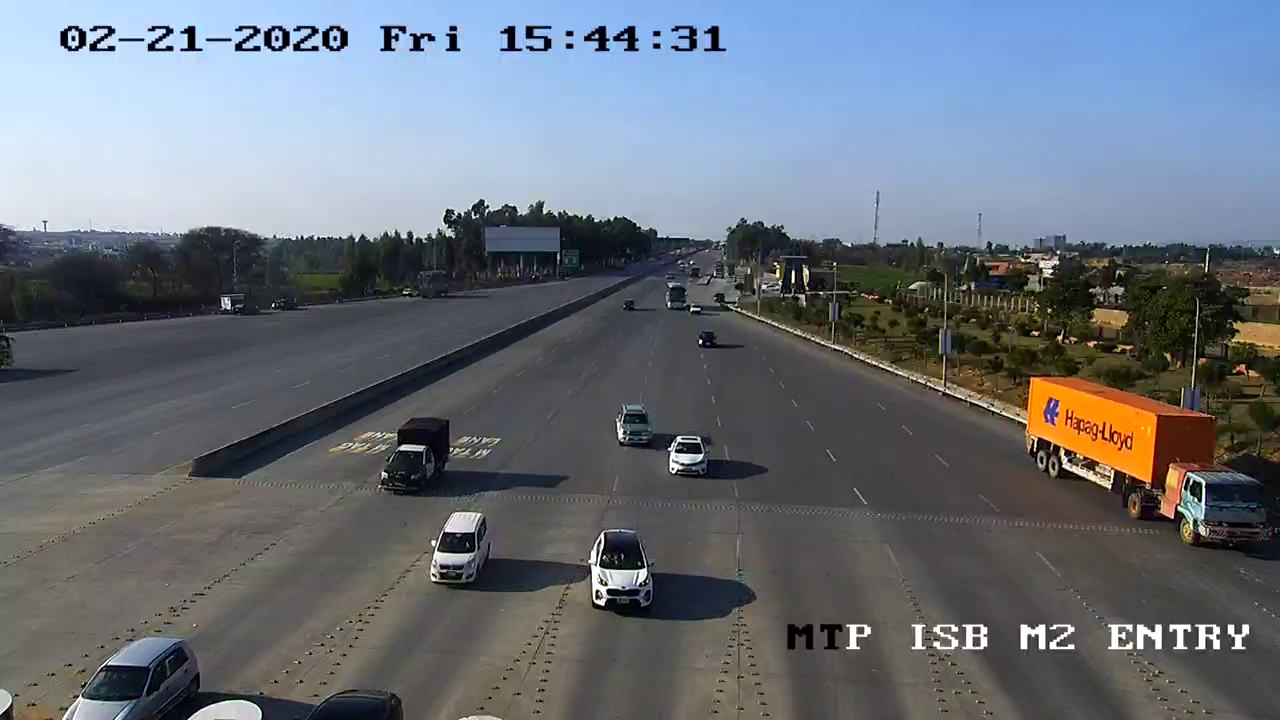f1: (367, 411, 458, 503), (579, 523, 663, 618), (425, 503, 497, 597), (665, 432, 715, 489), (609, 397, 657, 454)
f6: (1020, 370, 1275, 561)
